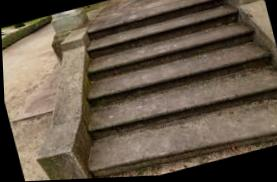Bench: (52, 0, 277, 174)
